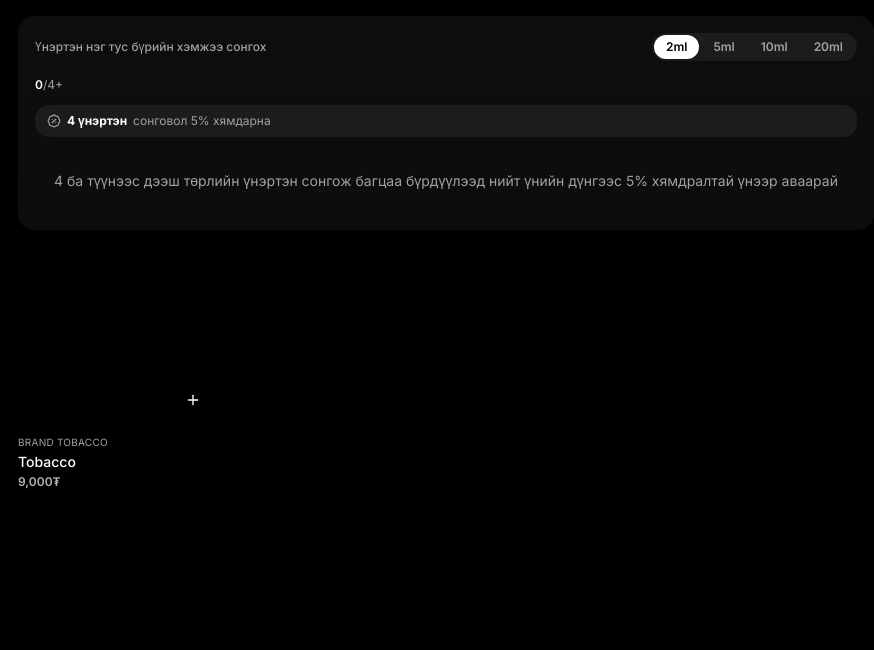
CollectionBuilder selection › flags a pick the chosen size cannot fill instead of dropping it
Click the button named "Нэмэх" at (193, 400), box [175,382,211,418]
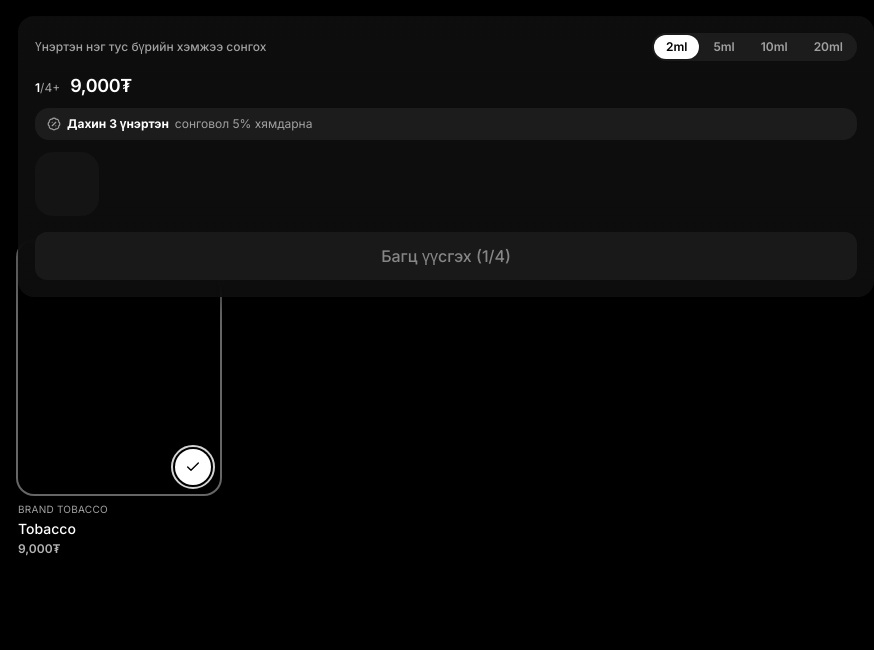
Click the button "10ml" at (774, 47), box [749,35,800,59]
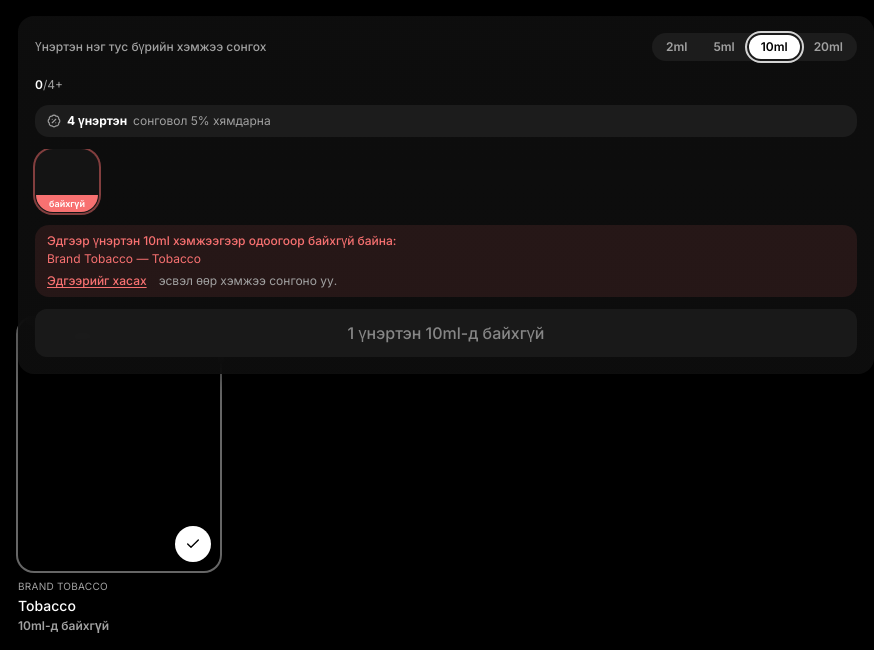
Now the button "1 үнэртэн 10ml-д байхгүй" is disabled, box [35,309,857,357]
Now the text "Эдгээр үнэртэн 10ml хэмжээгээр одоогоор байхгүй байна:" is shown, box [47,233,396,248]
